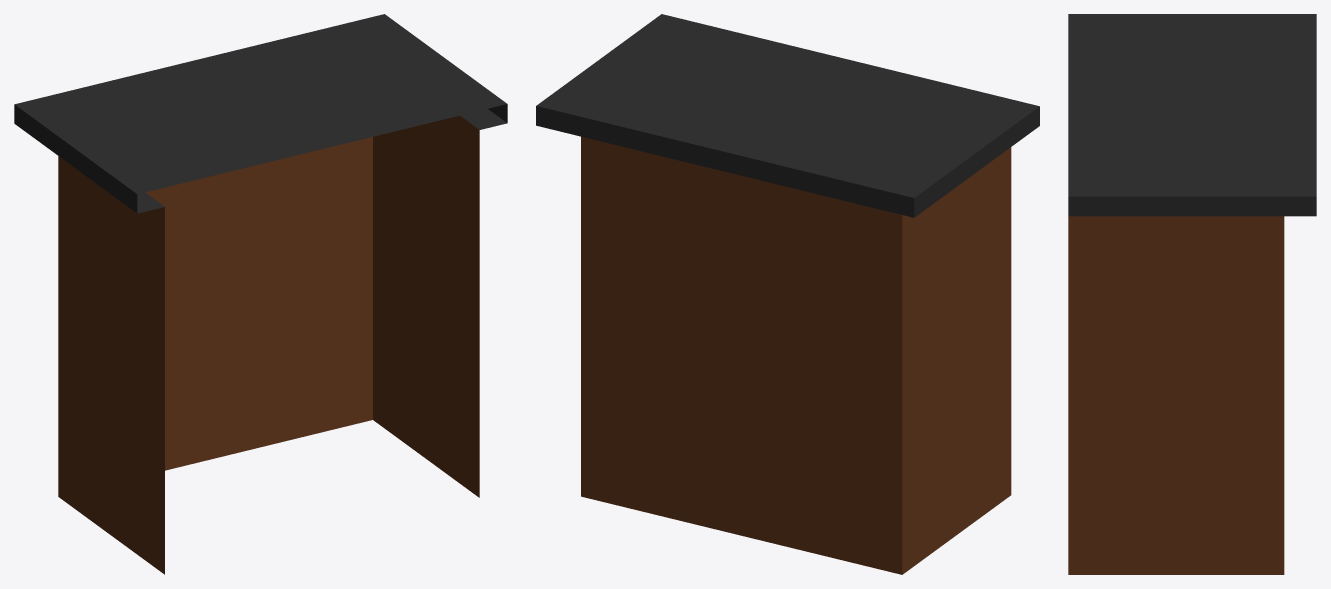
The model's file is CounterEnd.fbx.
The picture shows the model from 3 angles, left to right: view 1: azimuth 30°, elevation 25°; view 2: azimuth 150°, elevation 25°; view 3: azimuth 270°, elevation 25°; orthographic projection. The views are drawn at different scales.
Parts seen in each view (by area): view 1: Cube.036; view 2: Cube.036; view 3: Cube.036.
Part boxes in pixels (x1,y1,x2,y2): Cube.036: [14, 14, 507, 574]; Cube.036: [536, 14, 1039, 574]; Cube.036: [1068, 14, 1316, 574].
Size of the model in its own units: 100 by 100 by 57.5.
